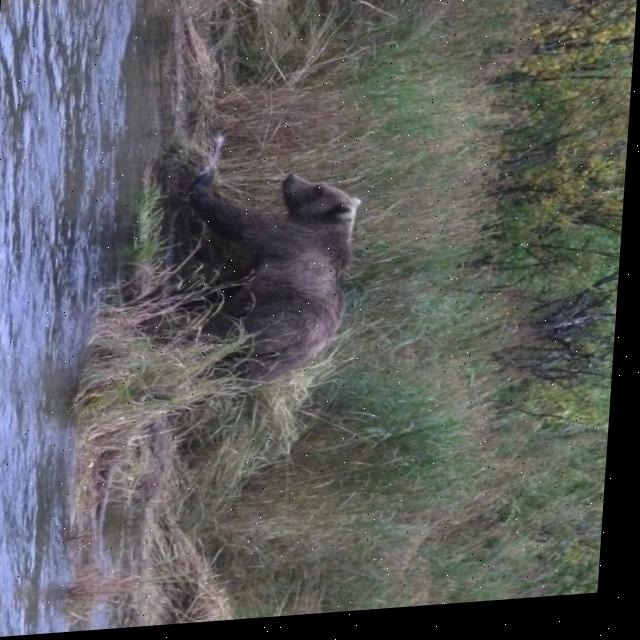bear face: (180, 172, 367, 395)
